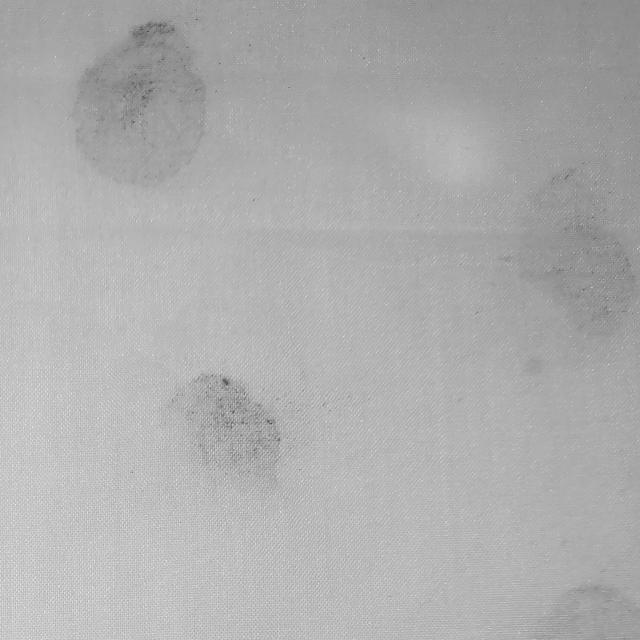Thread_other: (469, 124, 640, 378), (52, 0, 220, 209), (140, 359, 298, 517)
